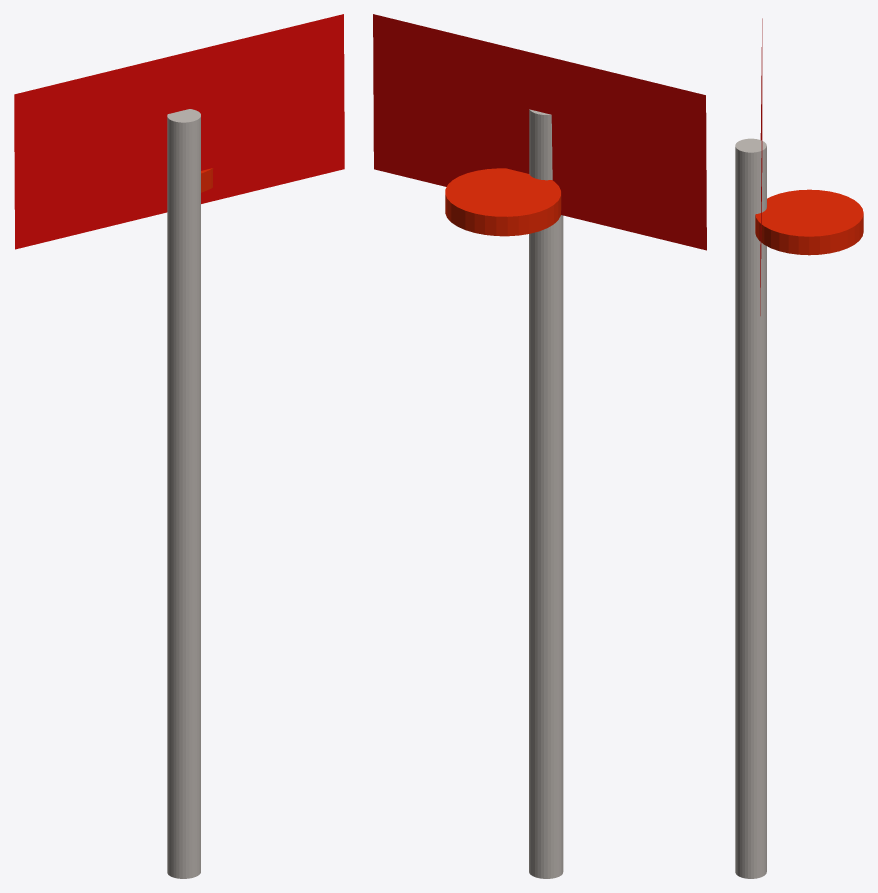
The model's file is busketballField.fbx.
3 renders of one model, left to right at view 1: azimuth 30°, elevation 25°; view 2: azimuth 150°, elevation 25°; view 3: azimuth 270°, elevation 25°, orthographic. The views are drawn at different scales.
Parts seen in each view (by area): view 1: Prostokąt, Walec; view 2: Prostokąt, Walec, Walec.003; view 3: Walec, Walec.003, Prostokąt.
Boxes of the visible parts, x1,y1,x2,y2 form: Prostokąt: (14,14,344,249); Walec: (167,109,200,878); Prostokąt: (373,14,706,250); Walec: (529,109,563,878); Walec.003: (445,168,561,236); Walec: (735,138,766,878); Walec.003: (755,189,863,255); Prostokąt: (760,18,762,315).
Size of what is drawn, in the model's own units: 673 by 1587 by 236.
